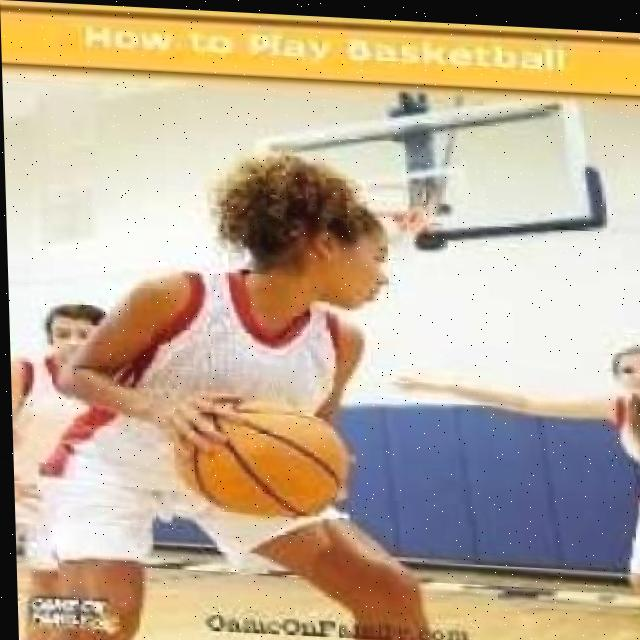basketball: (174, 391, 358, 532)
hoop: (365, 202, 427, 258)
